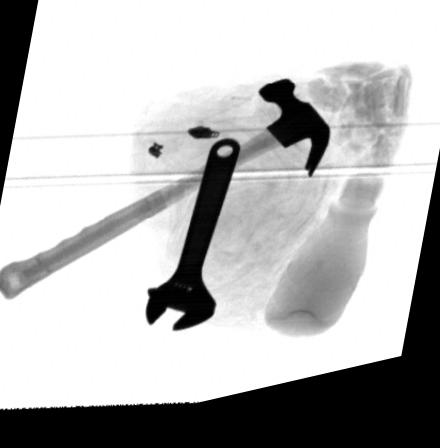Hammer: (0, 92, 330, 301)
Wrench: (145, 148, 242, 339)
